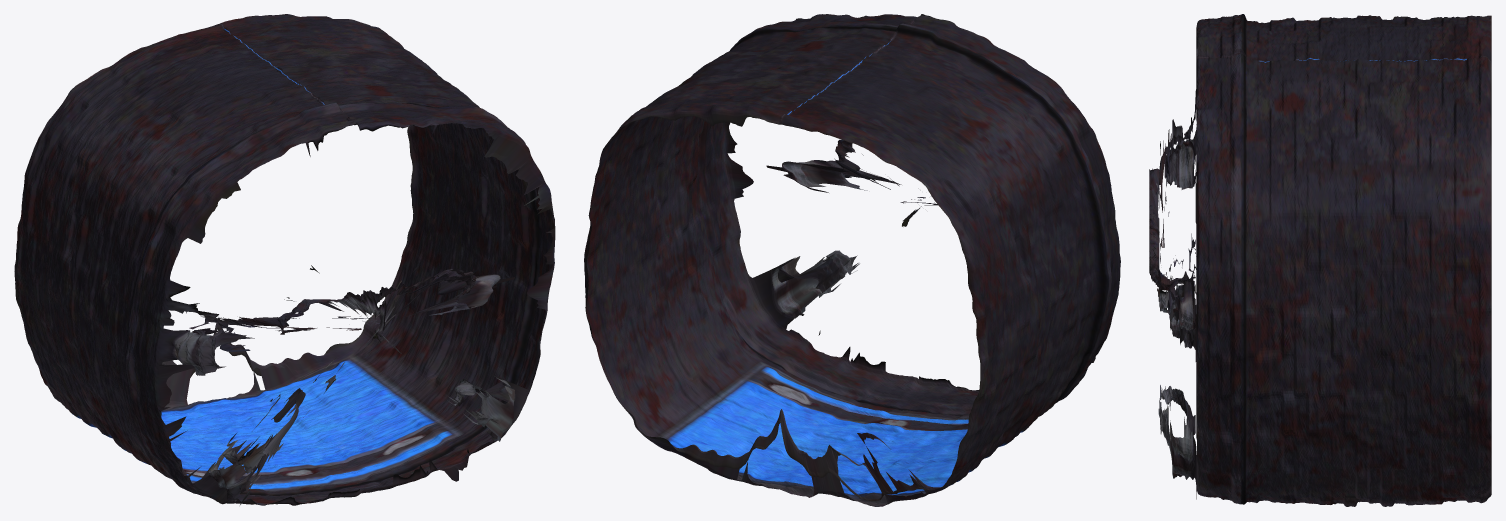
3 renders of one model, left to right at view 1: azimuth 30°, elevation 25°; view 2: azimuth 150°, elevation 25°; view 3: azimuth 270°, elevation 25°, orthographic. The views are drawn at different scales.
Visible parts, largest first — view 1: geometry_0; view 2: geometry_0; view 3: geometry_0.
Part boxes in pixels (left/top/right/bottom): geometry_0: left=14, top=14, right=555, bottom=505; geometry_0: left=584, top=14, right=1120, bottom=506; geometry_0: left=1149, top=14, right=1491, bottom=506.
Bounding box in the file's own units: 1.92 × 1.72 × 1.31.
Materials: 1 (1 with a texture image).
